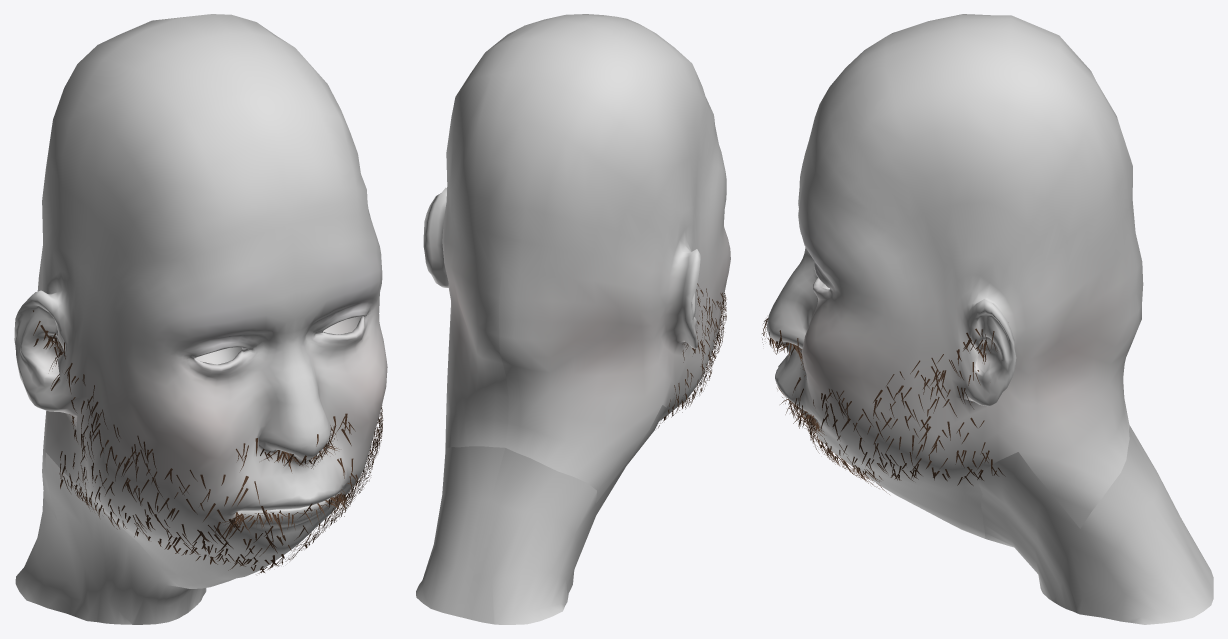
File: outlaw-15.glb
3 views of the same model, side by side, from view 1: azimuth 30°, elevation 25°; view 2: azimuth 150°, elevation 25°; view 3: azimuth 270°, elevation 25° (orthographic). The views are drawn at different scales.
Parts seen in each view (by area): view 1: Sculpted outlaw 15, Curly Bill's thick whiskers; view 2: Sculpted outlaw 15, Curly Bill's thick whiskers; view 3: Sculpted outlaw 15, Curly Bill's thick whiskers.
Part boxes in pixels (bbox=[...]): Sculpted outlaw 15: bbox=[14, 14, 387, 624]; Curly Bill's thick whiskers: bbox=[33, 310, 383, 573]; Sculpted outlaw 15: bbox=[416, 14, 730, 624]; Curly Bill's thick whiskers: bbox=[658, 283, 726, 427]; Sculpted outlaw 15: bbox=[766, 14, 1213, 624]; Curly Bill's thick whiskers: bbox=[762, 318, 1005, 494].
Size of the model in its own units: 0.1755 by 0.3143 by 0.2324.
